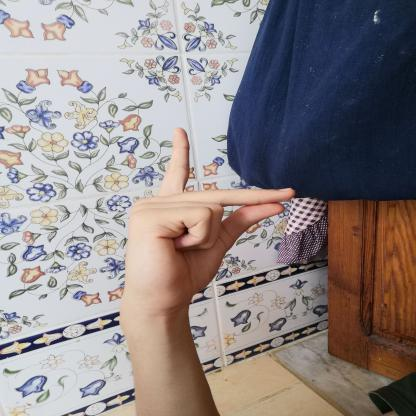TAA: (112, 121, 308, 323)
